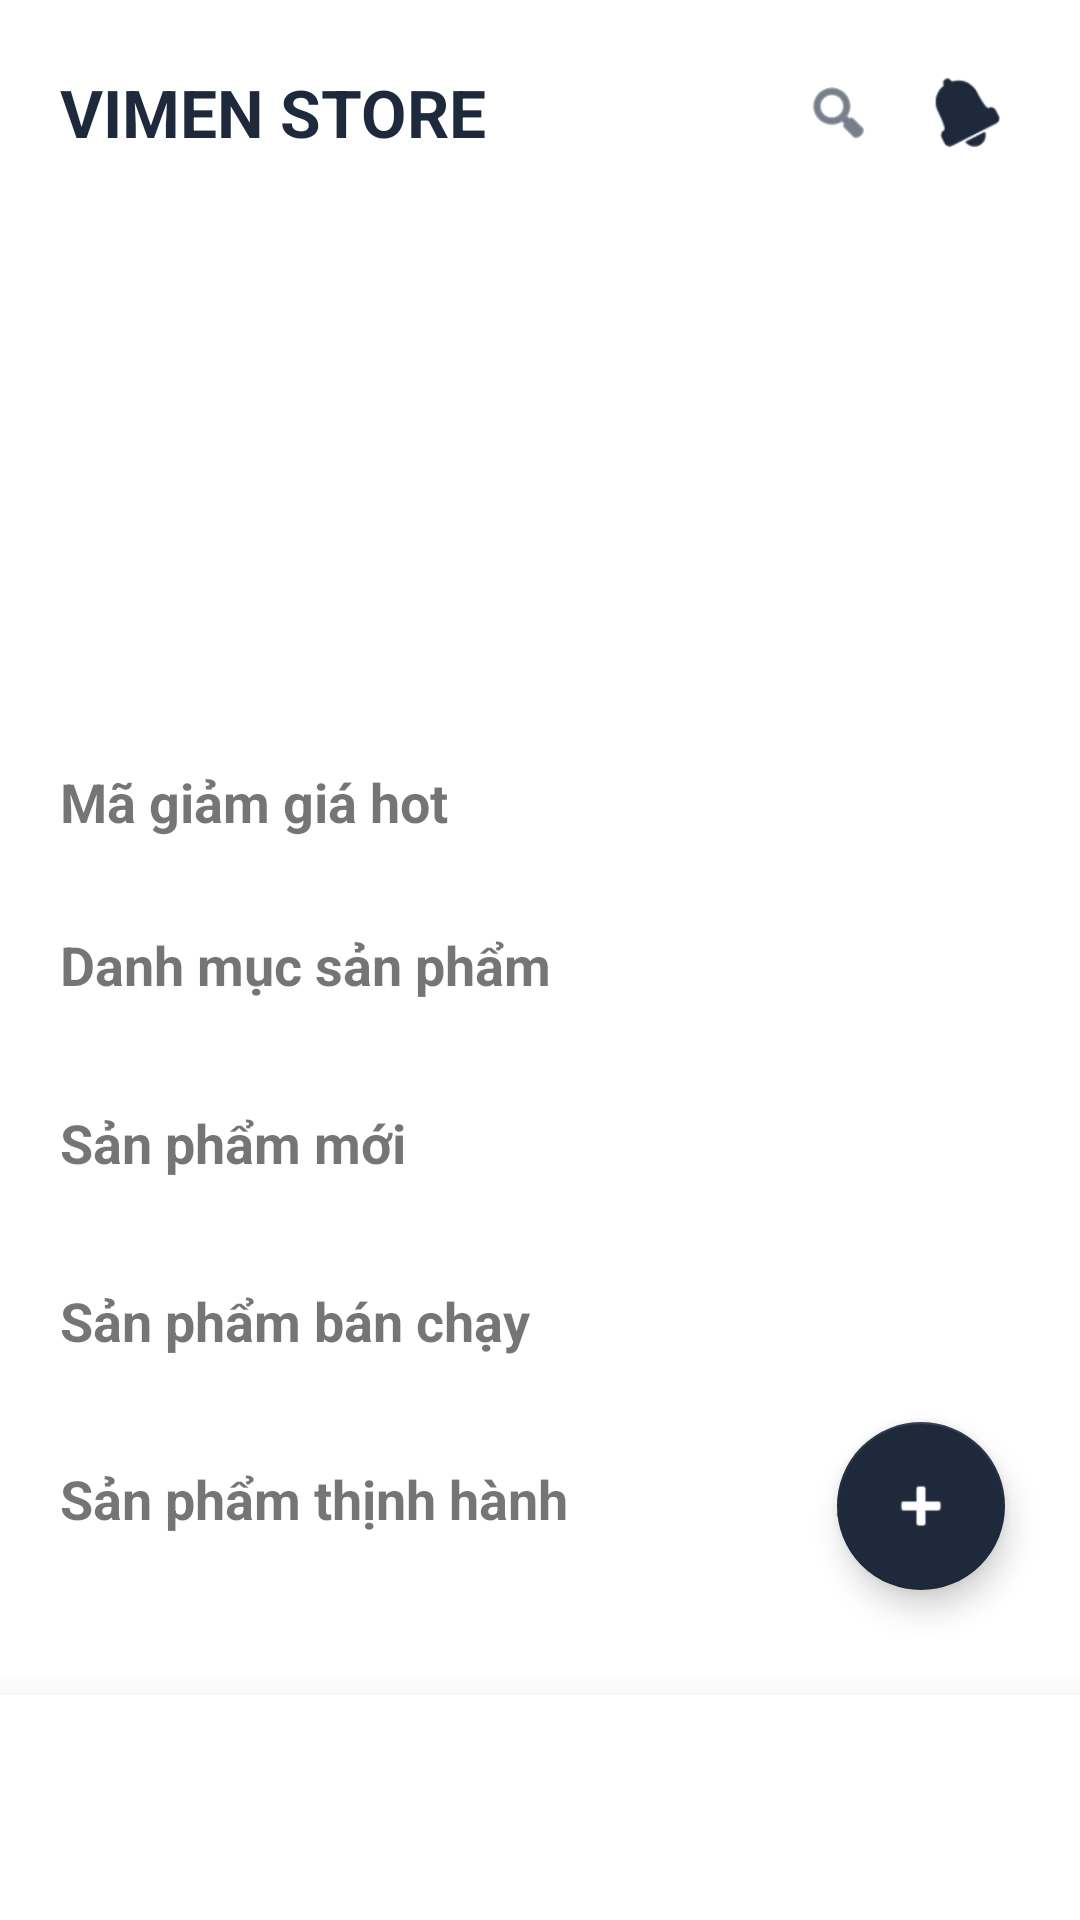

Icons on this 1080w x 1920h Android screen, each with its box as bbox=[x1, y1, x2, y2]:
Add Product: bbox=[837, 1422, 1005, 1590]
popup reminder: bbox=[935, 78, 1000, 147]
search: bbox=[813, 87, 864, 138]
